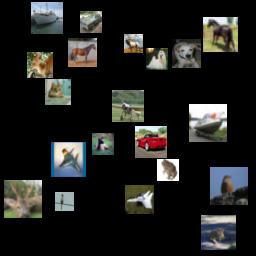airplane: (51, 142, 86, 177), (112, 90, 144, 122), (125, 185, 154, 214)
automobile: (135, 126, 167, 158), (80, 11, 102, 33)
bird: (210, 167, 248, 205), (55, 192, 74, 211)
cat: (201, 215, 236, 250), (45, 79, 71, 105)
deer: (4, 180, 42, 218), (27, 52, 53, 78), (92, 133, 114, 155), (124, 34, 143, 53)
dog: (172, 39, 201, 68), (146, 48, 168, 70)
frog: (157, 159, 179, 181)
ship: (189, 104, 227, 142), (31, 2, 63, 34)
